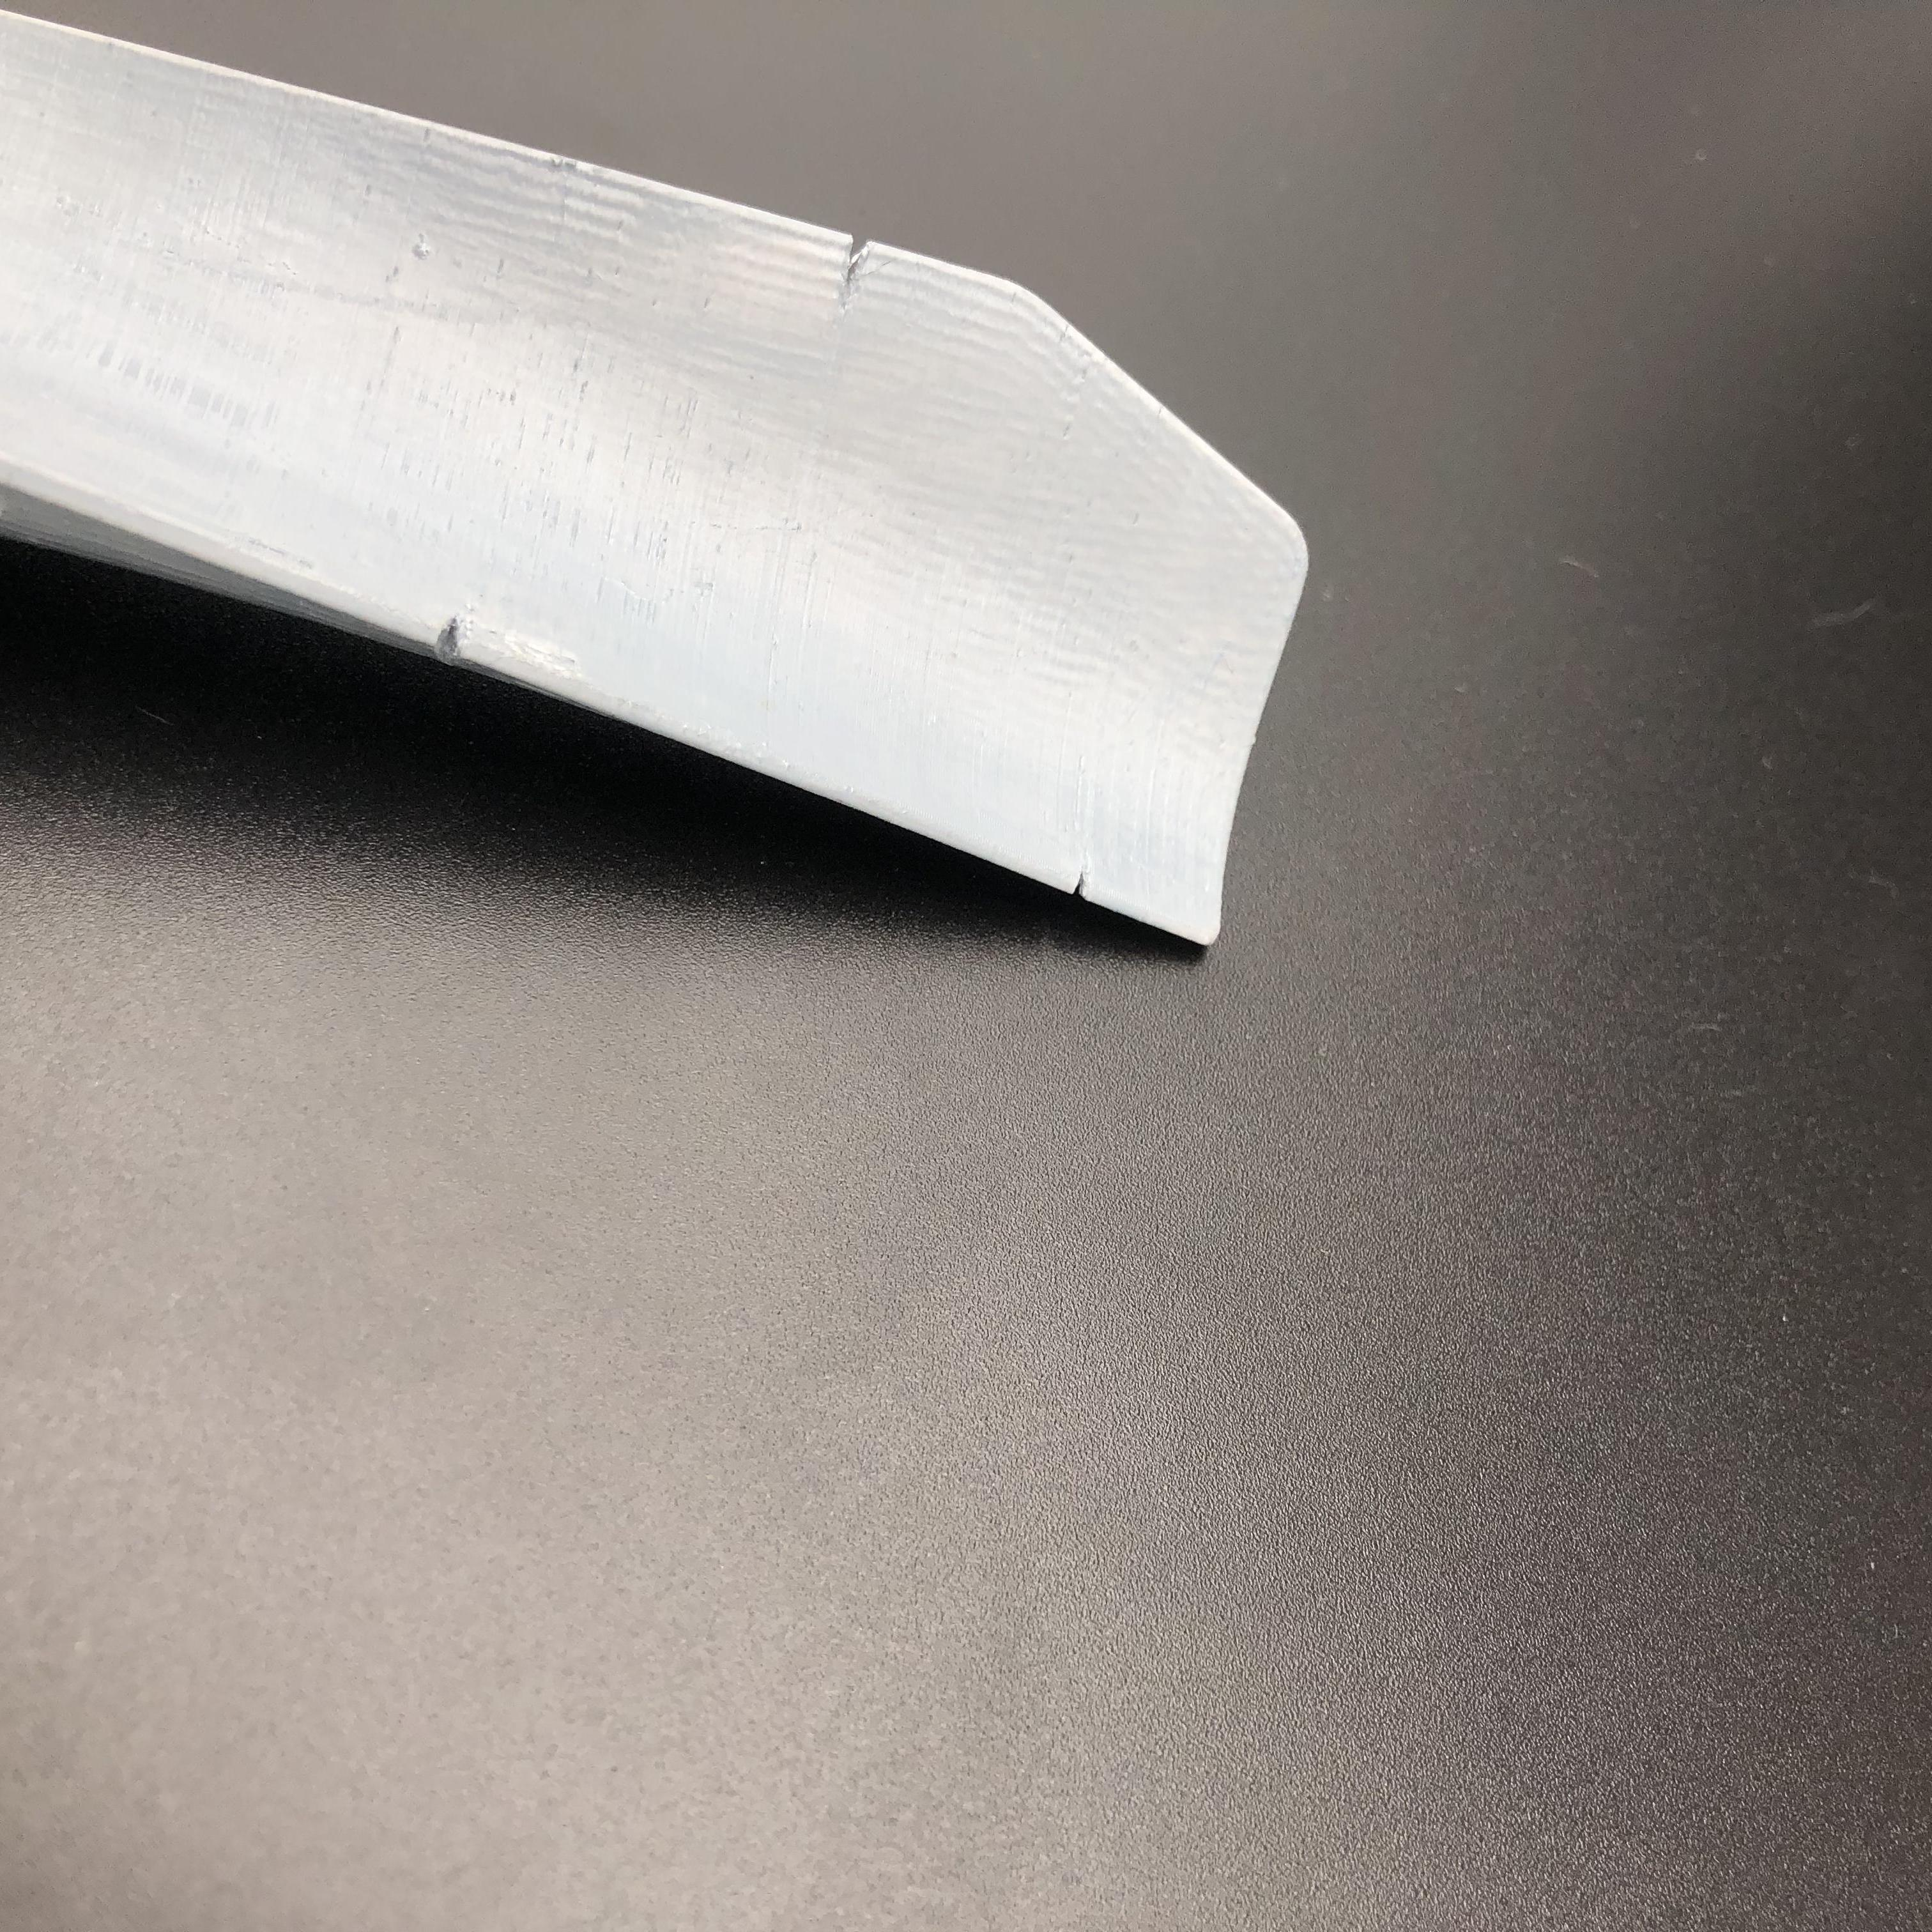groove: (832, 232, 879, 311), (425, 612, 481, 658), (1058, 865, 1104, 902)
